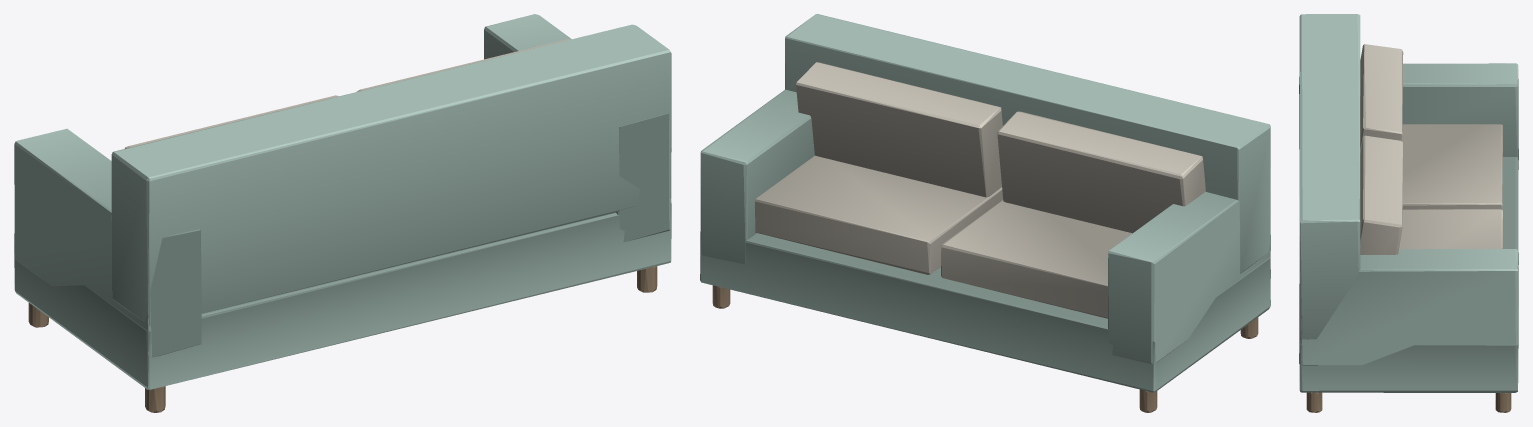
Rendered from furn_sofa__mint_low.glb.
The picture shows the model from 3 angles, left to right: view 1: azimuth 30°, elevation 25°; view 2: azimuth 150°, elevation 25°; view 3: azimuth 270°, elevation 25°; orthographic projection. The views are drawn at different scales.
Size of the model in its own units: 1.9 by 0.8385 by 0.85.
